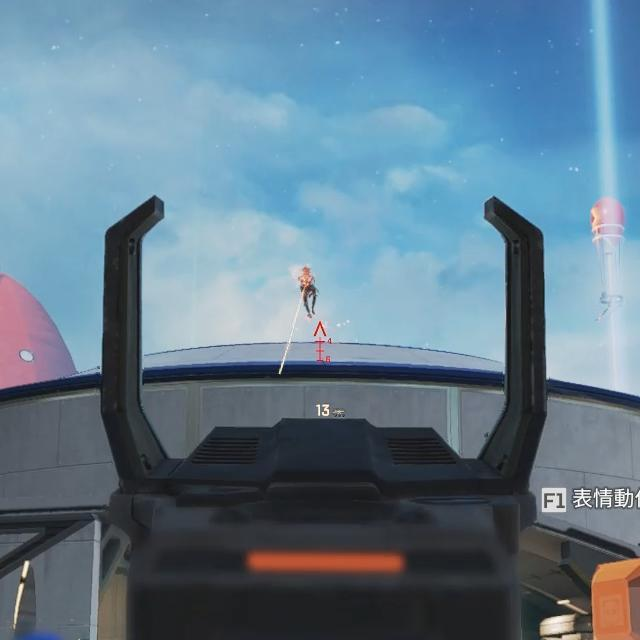avatar: (296, 264, 321, 322)
